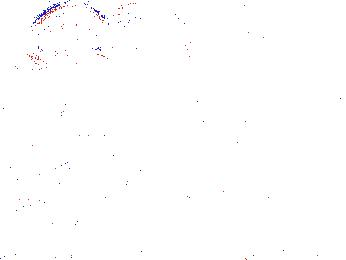moon jellyfish: (25, 3, 117, 66), (111, 4, 192, 64), (1, 67, 69, 111)
